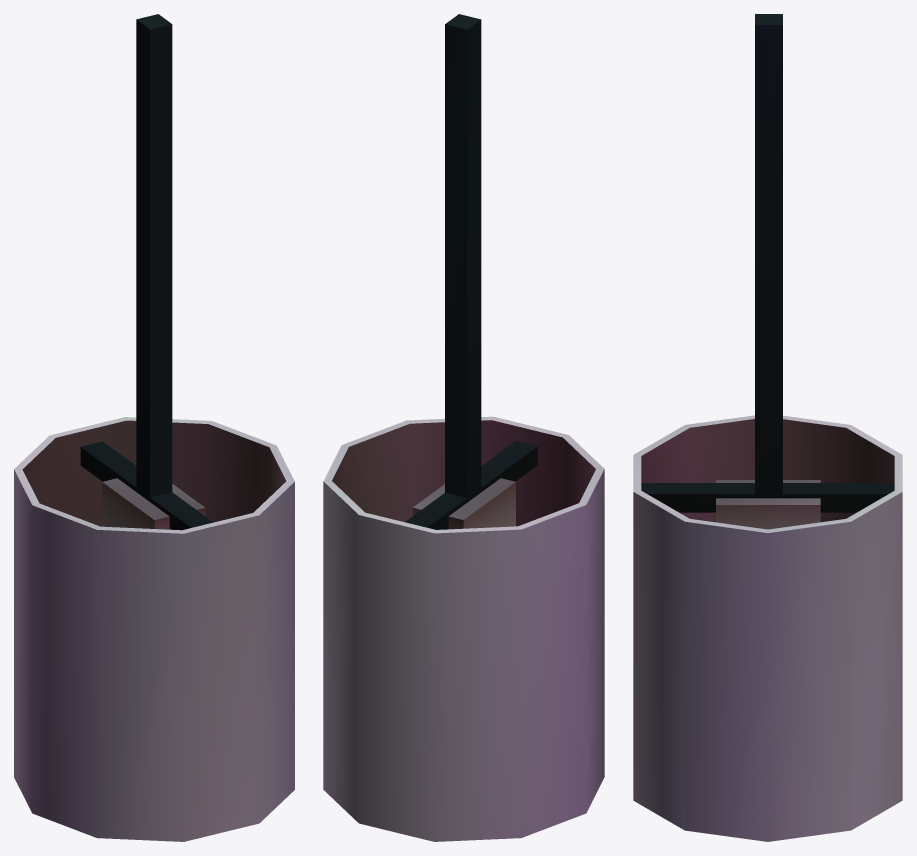
File: tube_hanging_lamp.FBX
The picture shows the model from 3 angles, left to right: view 1: azimuth 30°, elevation 25°; view 2: azimuth 150°, elevation 25°; view 3: azimuth 270°, elevation 25°; orthographic projection.
Parts seen in each view (by area): view 1: tube hanging lamp, bulb02; view 2: tube hanging lamp, bulb02; view 3: tube hanging lamp, bulb02.
Part boxes in pixels (x1=…): tube hanging lamp: x1=14, y1=14, x2=294, y2=841; bulb02: x1=102, y1=478, x2=205, y2=529; tube hanging lamp: x1=323, y1=14, x2=604, y2=841; bulb02: x1=412, y1=478, x2=515, y2=529; tube hanging lamp: x1=633, y1=14, x2=902, y2=841; bulb02: x1=716, y1=480, x2=820, y2=529.
Size of the model in its own units: 0.276 by 0.8212 by 0.2625.
